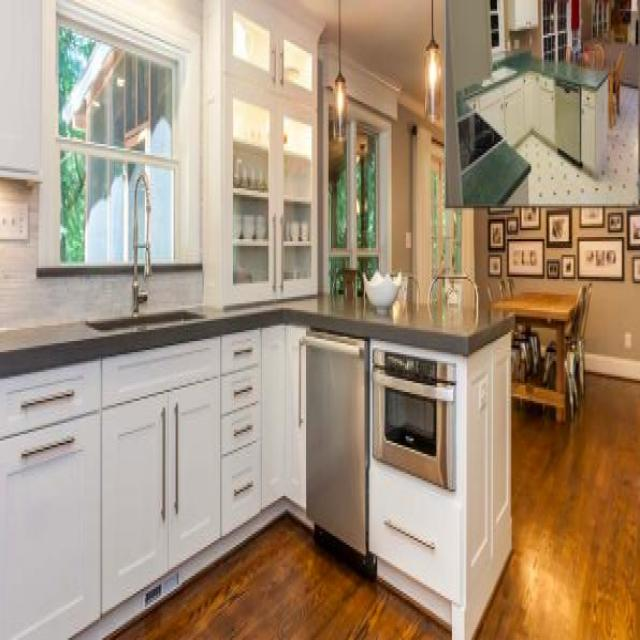dishwasher: (304, 323, 366, 554)
